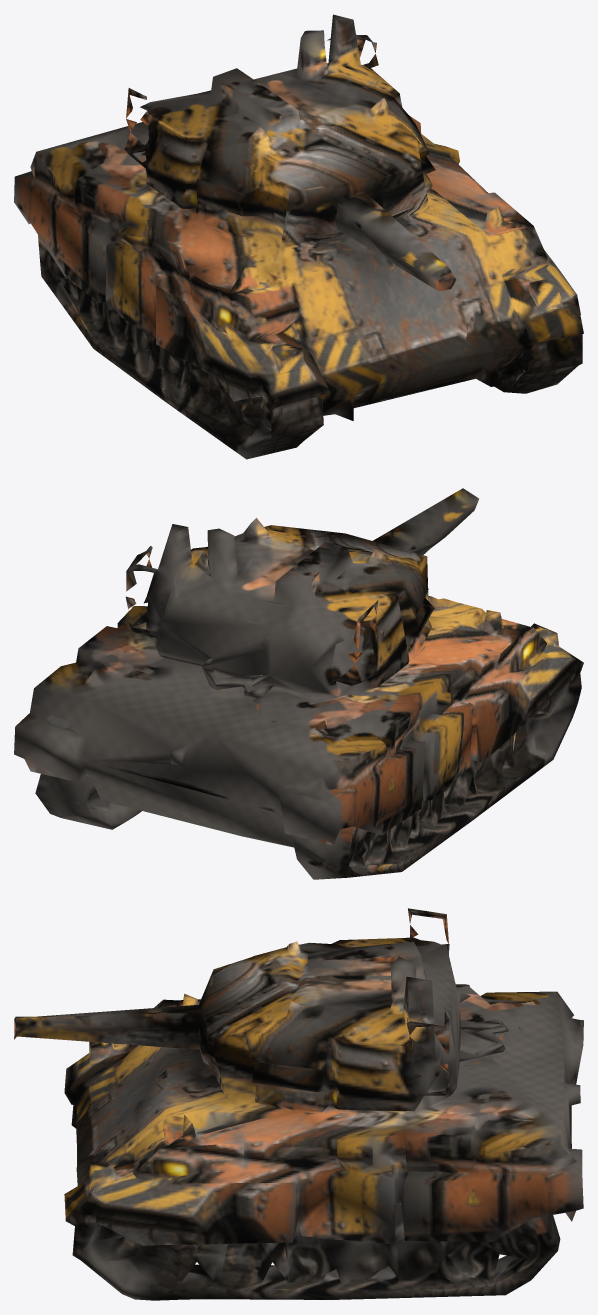
The model's file is ironclad_lod2.glb.
The picture shows the model from 3 angles, top to bottom: view 1: azimuth 30°, elevation 25°; view 2: azimuth 150°, elevation 25°; view 3: azimuth 270°, elevation 25°; orthographic projection.
Visible parts, largest first — view 1: geometry_0; view 2: geometry_0; view 3: geometry_0.
Boxes of the visible parts, <box> form: geometry_0: <box>14,14,583,459</box>; geometry_0: <box>14,488,583,879</box>; geometry_0: <box>14,908,583,1300</box>.
Bounding box in the file's own units: 1.35 × 1.11 × 1.99.
1 material, 1 textured.
